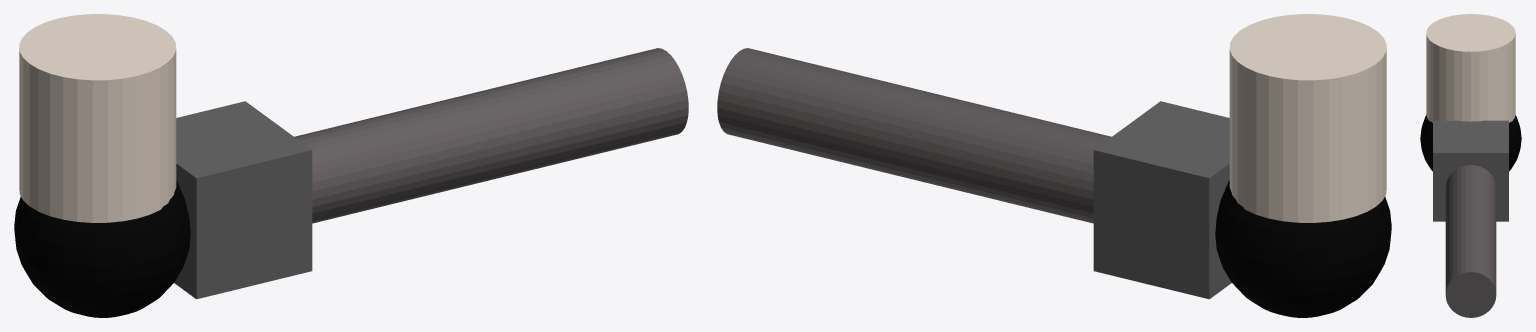
Rendered from Prot_Turret_Carles.fbx.
The picture shows the model from 3 angles, left to right: view 1: azimuth 30°, elevation 25°; view 2: azimuth 150°, elevation 25°; view 3: azimuth 270°, elevation 25°; orthographic projection. The views are drawn at different scales.
Parts seen in each view (by area): view 1: Cylinder, Cylinder.001, Cube, Sphere; view 2: Cylinder, Cylinder.001, Cube, Sphere; view 3: Cylinder.001, Cylinder, Cube, Sphere.
Boxes of the visible parts, x1,y1,x2,y2 form: Cylinder: [294, 48, 688, 223]; Cylinder.001: [19, 14, 176, 222]; Cube: [174, 101, 312, 299]; Sphere: [14, 180, 190, 317]; Cylinder: [717, 48, 1111, 223]; Cylinder.001: [1229, 14, 1386, 222]; Cube: [1093, 101, 1231, 299]; Sphere: [1215, 180, 1391, 317]; Cylinder.001: [1426, 14, 1515, 122]; Cylinder: [1445, 165, 1496, 317]; Cube: [1433, 120, 1508, 221]; Sphere: [1420, 115, 1521, 171].
Bounding box in the file's own units: 831 × 327 × 200.
